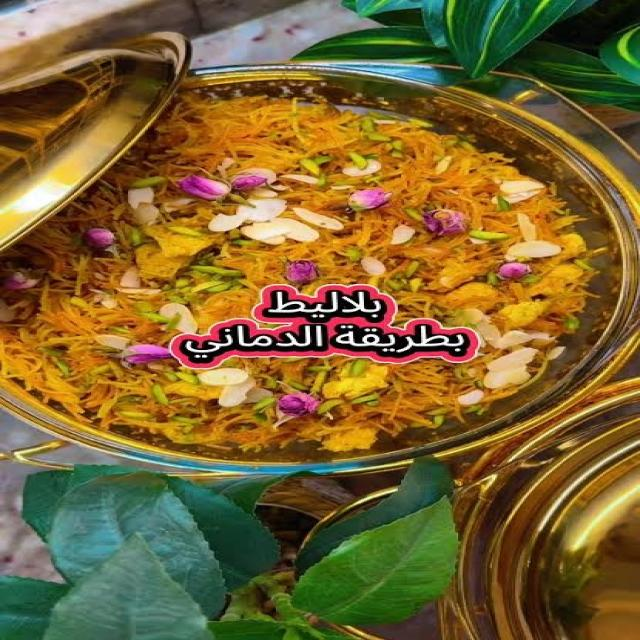Balaleet: (34, 85, 640, 438)
